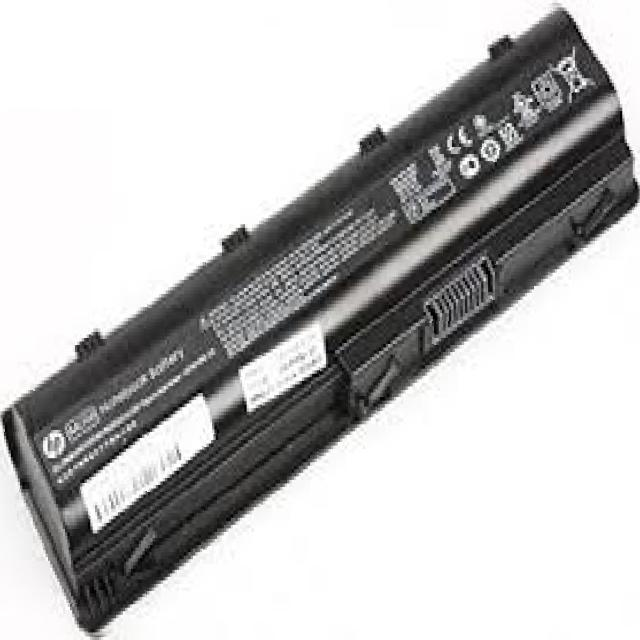Battery: (0, 8, 640, 636)
